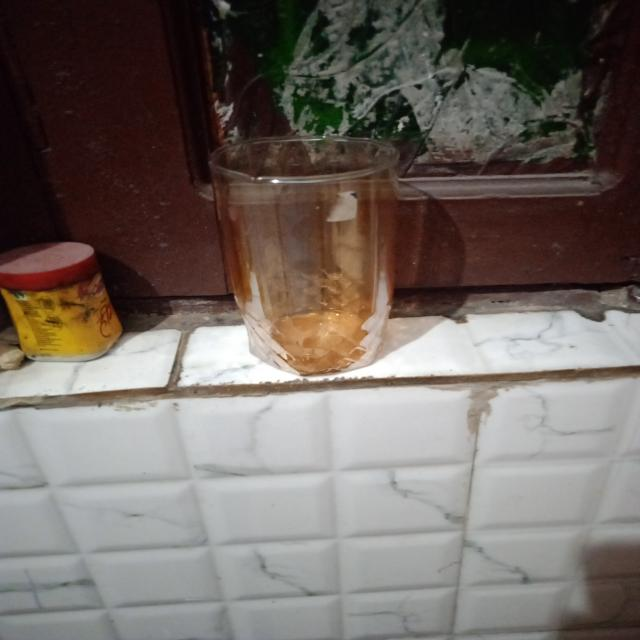Glass: (204, 131, 408, 379)
